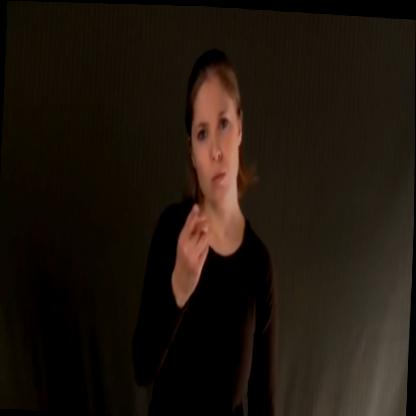HowAreYou: (131, 36, 294, 416)
